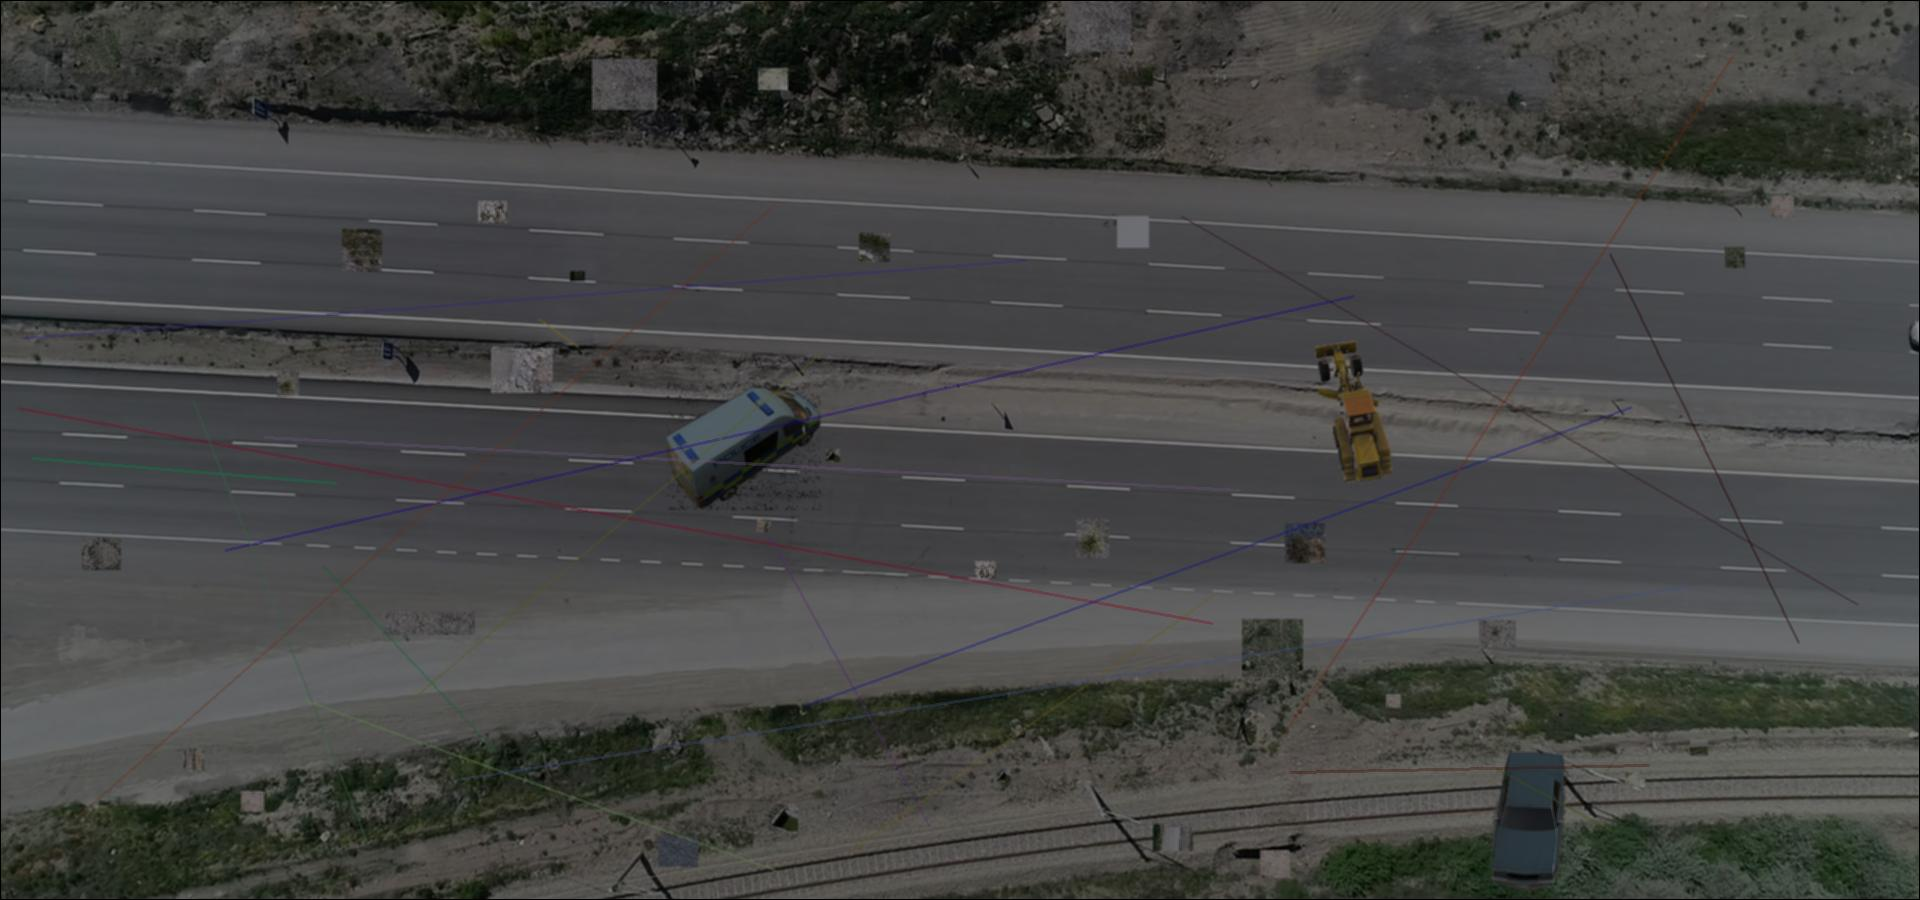arac: (667, 382, 820, 509), (1311, 339, 1397, 486), (1491, 749, 1569, 890)
